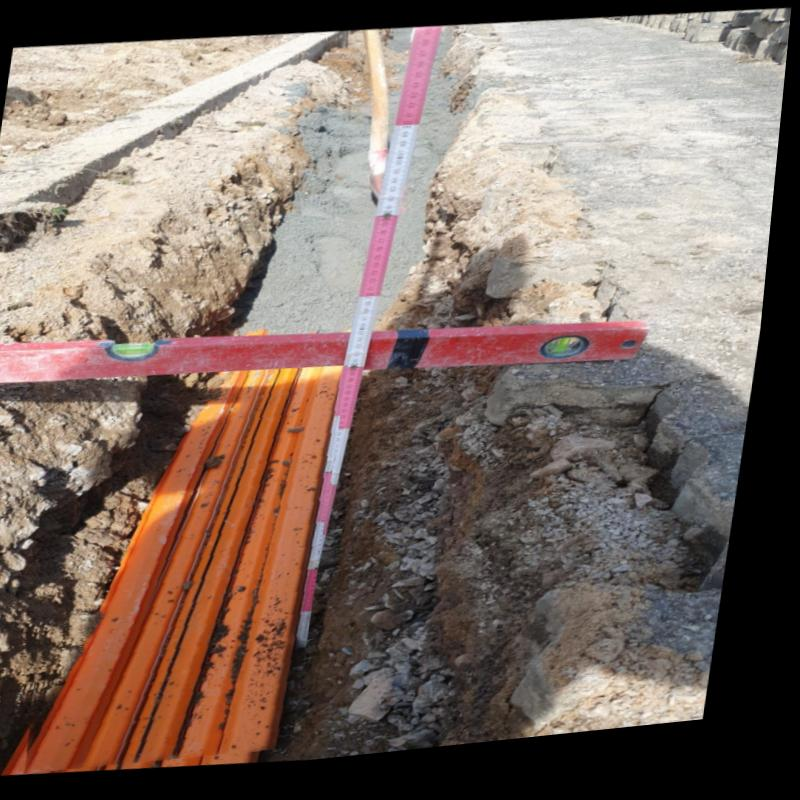Orang-Speednetrohrchen: (37, 374, 356, 774)
